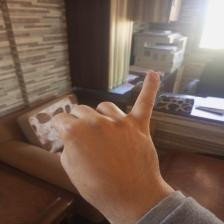five: (47, 66, 164, 208)
